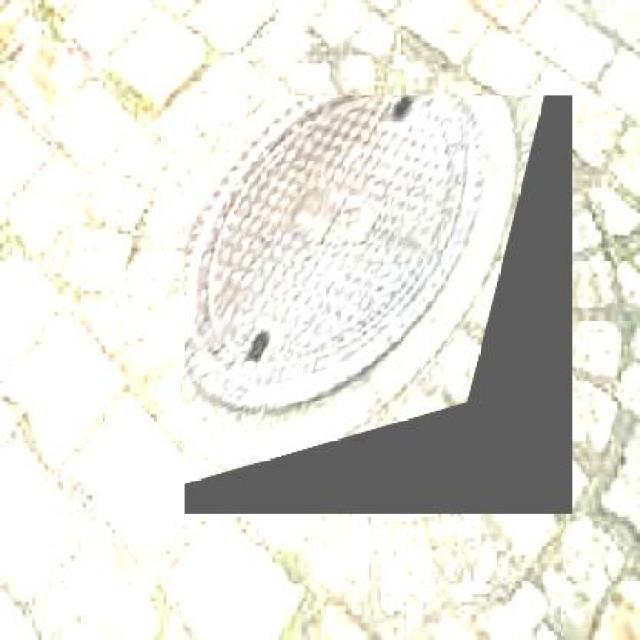Manhole: (185, 96, 572, 515)
